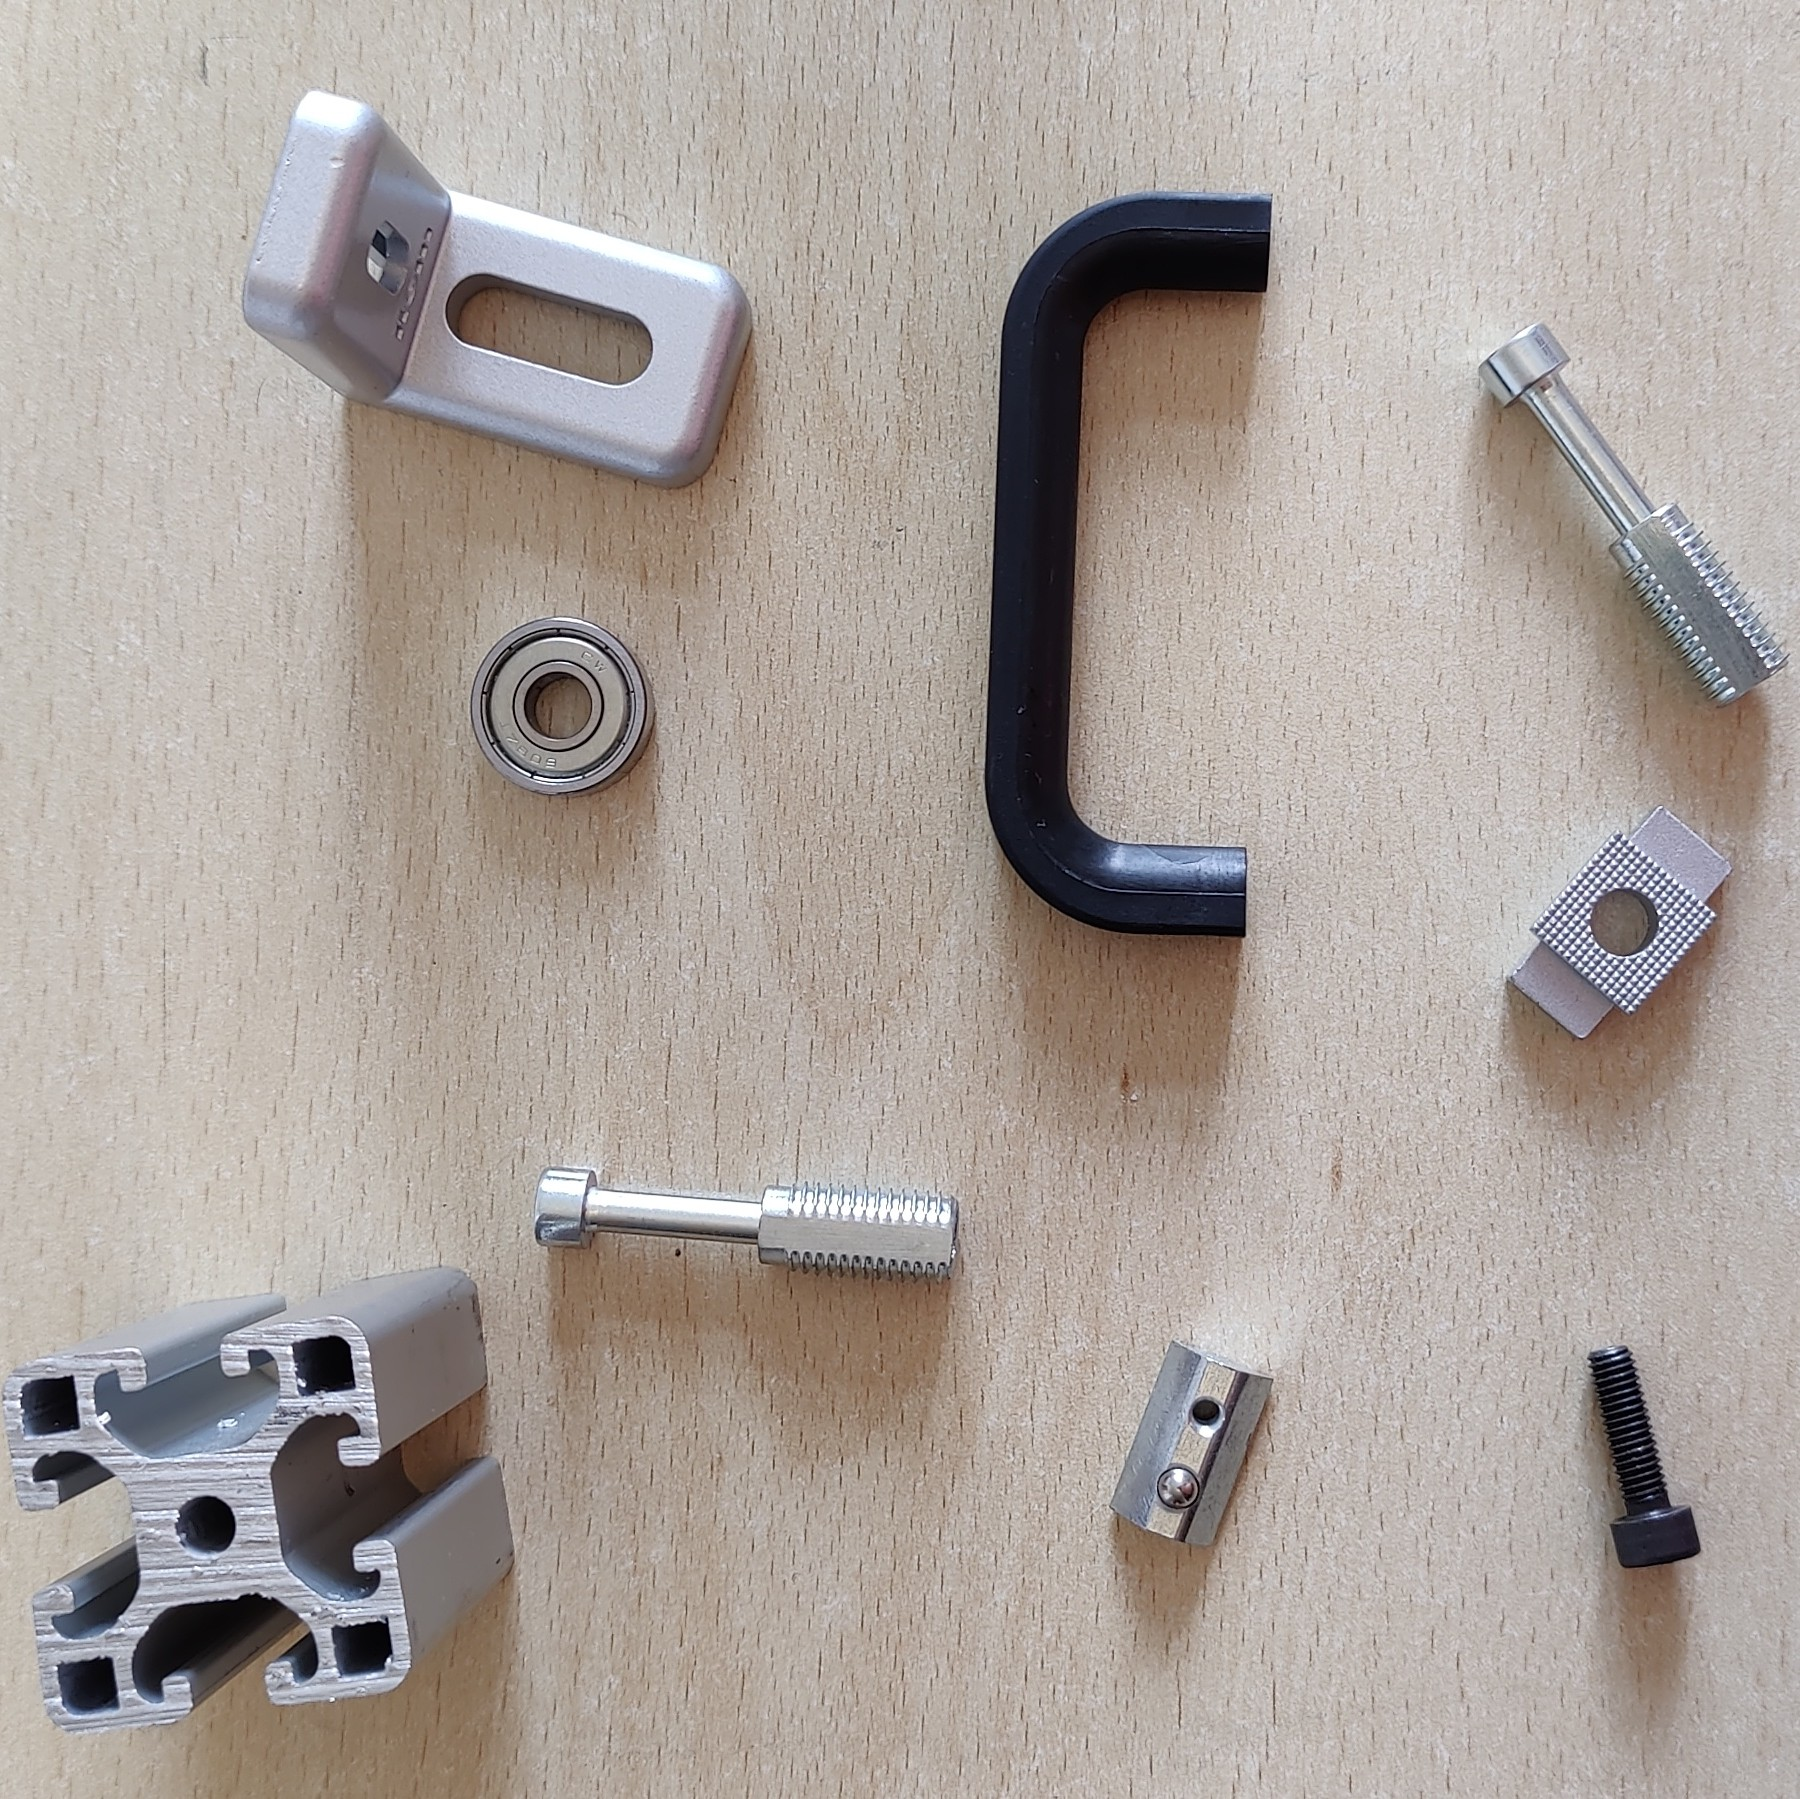Aluminium Extension: (2, 1264, 515, 1736)
Ball Bearing: (468, 613, 659, 799)
Multiwinkel: (239, 87, 754, 491)
Pull Handle: (978, 193, 1275, 942)
Shoulder Socket Head Cap Screw: (1472, 318, 1792, 707), (530, 1160, 962, 1285)
Socket Head Cap Screw: (1583, 1341, 1704, 1572)
T Nut Square: (1500, 802, 1736, 1041)
T Spring Nut: (1108, 1339, 1278, 1549)
